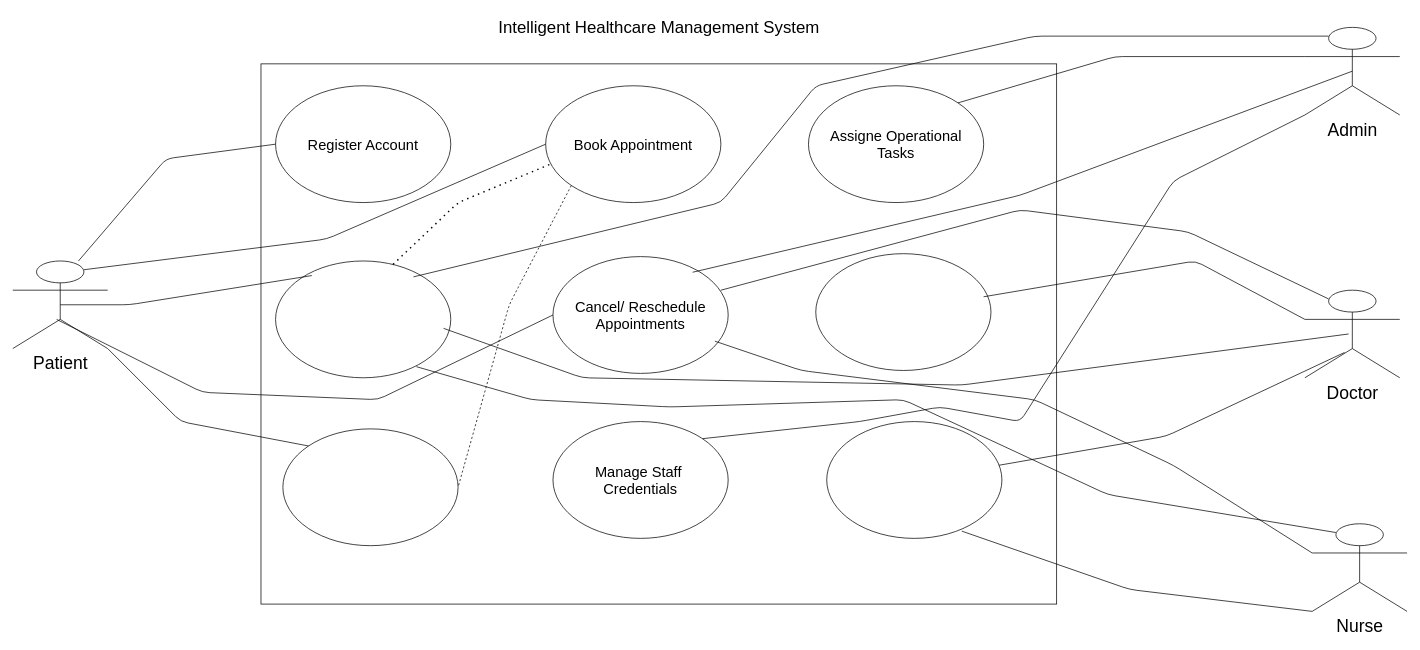
This 1420x650 diagram has some shape labels left out. The centre of each missing label's shape, as x and y in pixels:
"Input Symptoms / Image" goes at (x=370, y=487).
"Login" goes at (x=363, y=319).
"Update Task Status" goes at (x=903, y=311).
"View Daily Schedule And Patient History" goes at (x=914, y=479).
